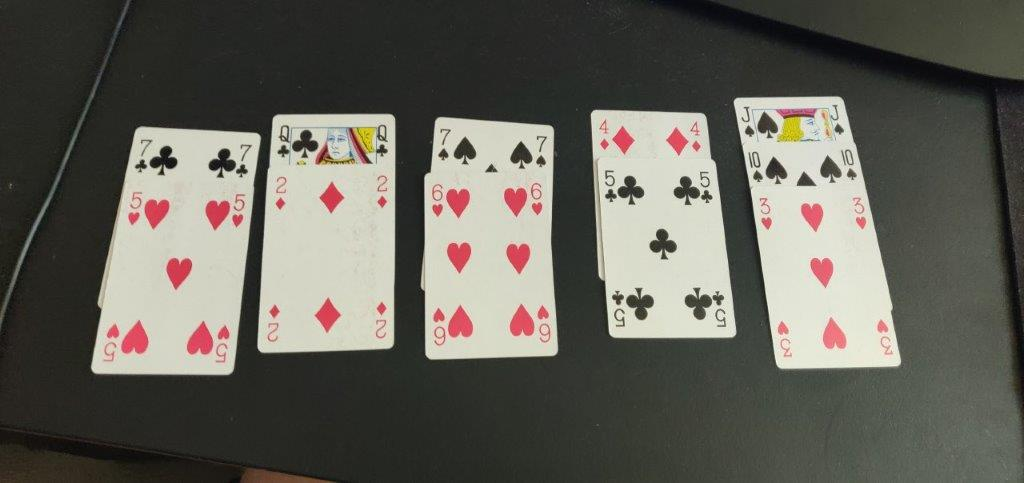10S: (837, 146, 861, 185), (745, 146, 765, 184)
2D: (369, 171, 392, 212), (273, 174, 292, 215)
3H: (847, 193, 873, 234), (755, 191, 776, 233)
4D: (593, 116, 612, 154), (687, 117, 704, 156)
5C: (599, 168, 620, 206), (697, 170, 717, 207)
5H: (124, 190, 146, 226), (231, 192, 249, 232)
6H: (428, 180, 448, 223), (527, 179, 547, 220)
7C: (127, 136, 155, 178), (233, 141, 253, 180)
7S: (531, 131, 552, 171), (435, 125, 453, 164)
JS: (827, 100, 848, 139), (736, 102, 755, 139)
QC: (274, 123, 292, 165), (373, 121, 390, 162)
